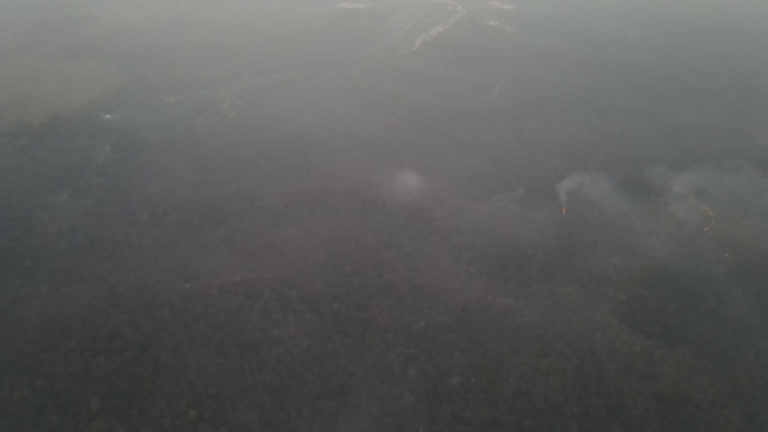fire: (695, 203, 716, 240), (560, 203, 570, 221)
smoke: (662, 167, 768, 280), (553, 170, 648, 243), (387, 161, 430, 211)
